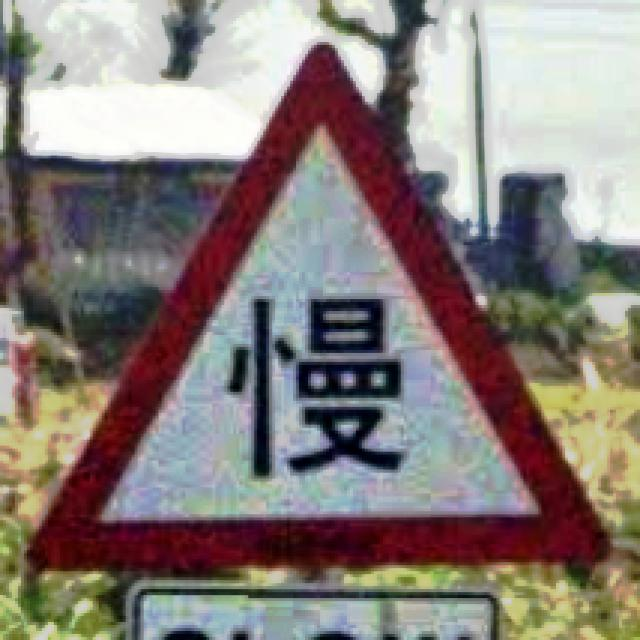slow: (27, 42, 610, 571)
